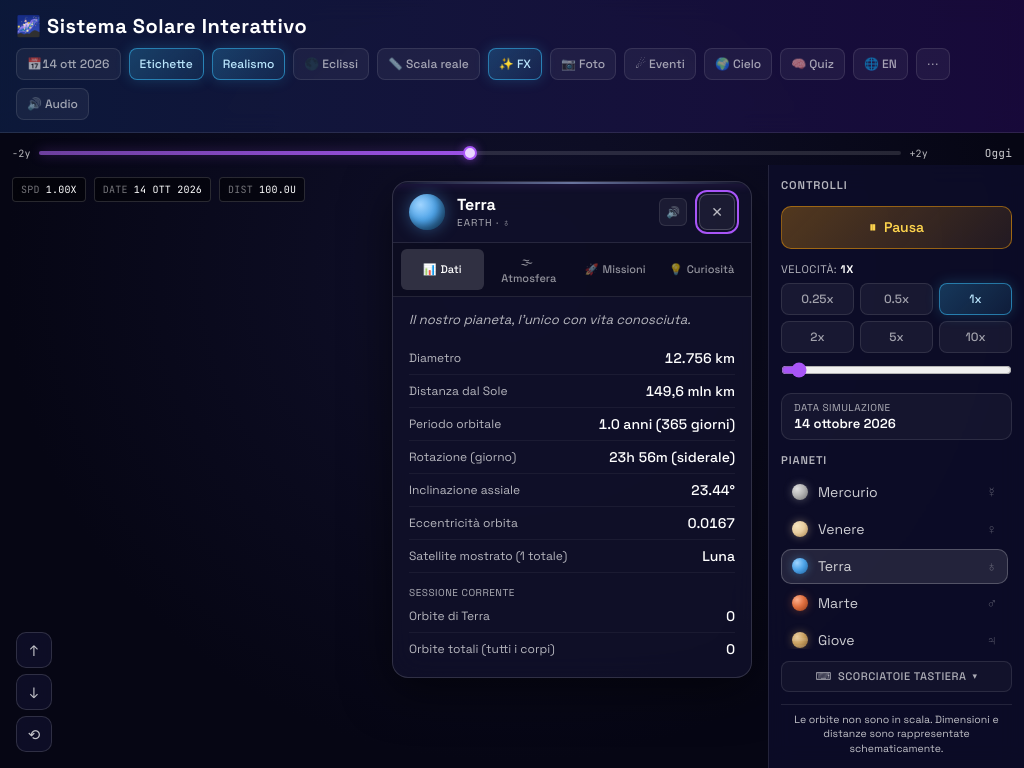
Test: App — interazioni › chiude il pannello con il tasto Esc
The width and height of the screenshot is (1024, 768).
Click the button "Marte ♂". click: (894, 604)
box: [781,586,1008,621]
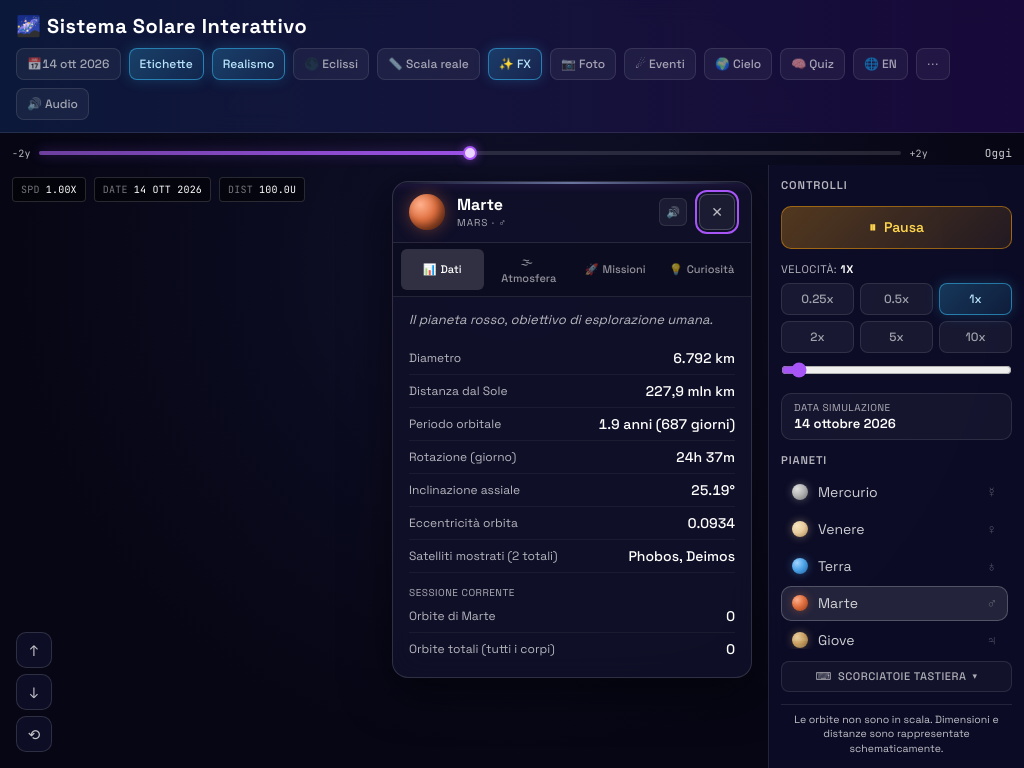
Expected: the dialog is shown, [392,181,752,678]
Press Escape
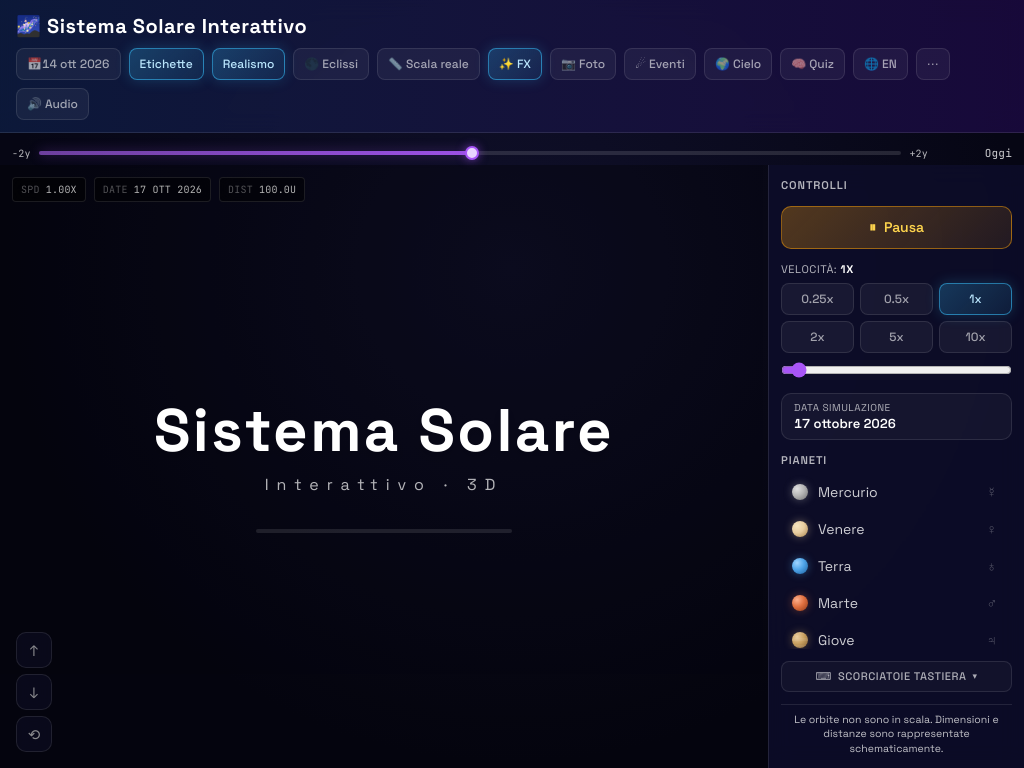
Now the dialog is gone
